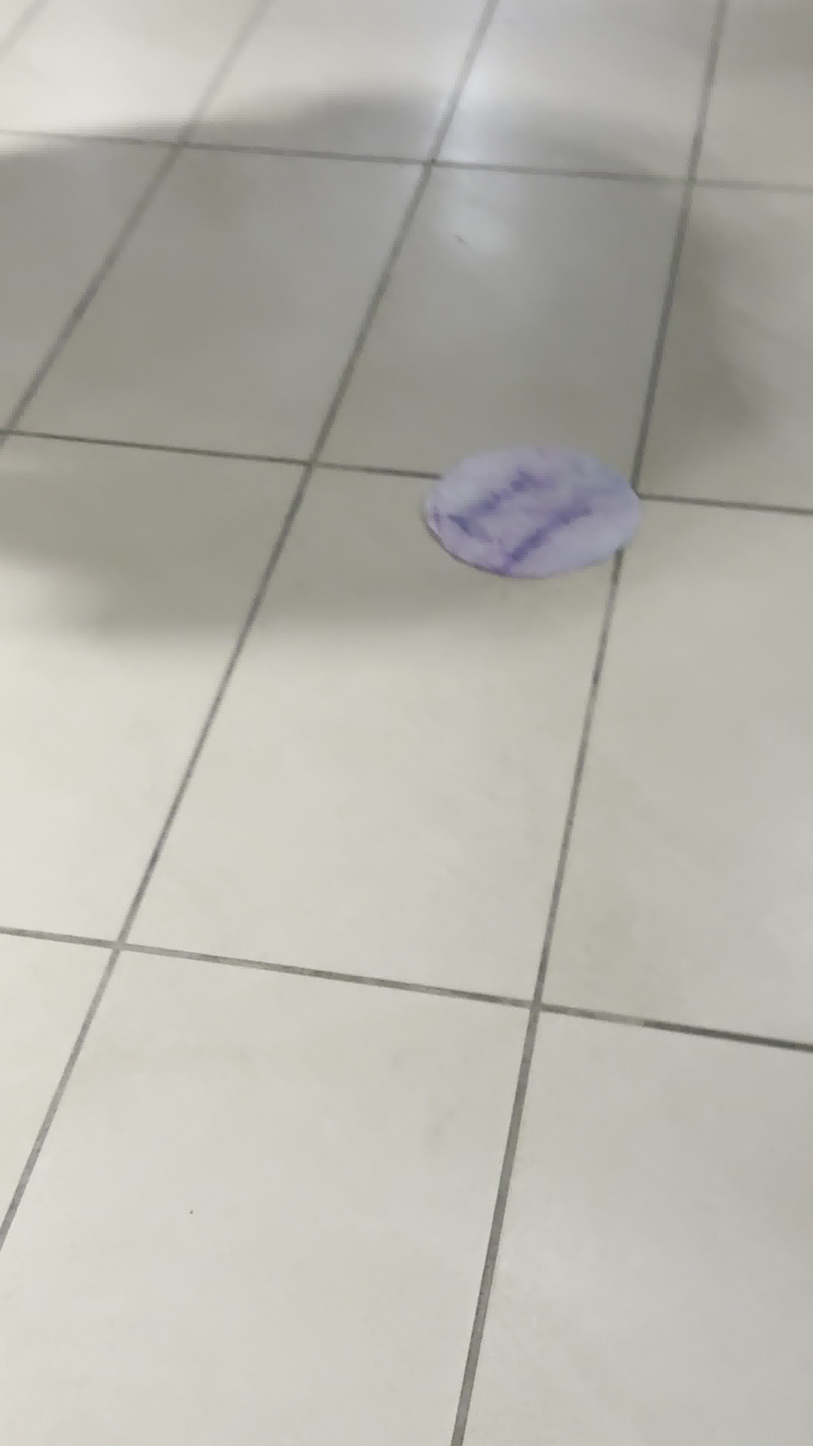Target: (422, 443, 642, 581)
